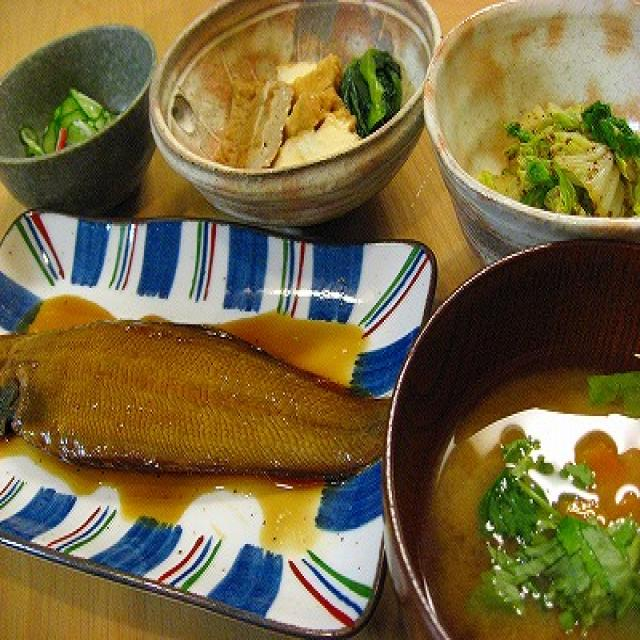熟制海鲜: (0, 277, 400, 546)
